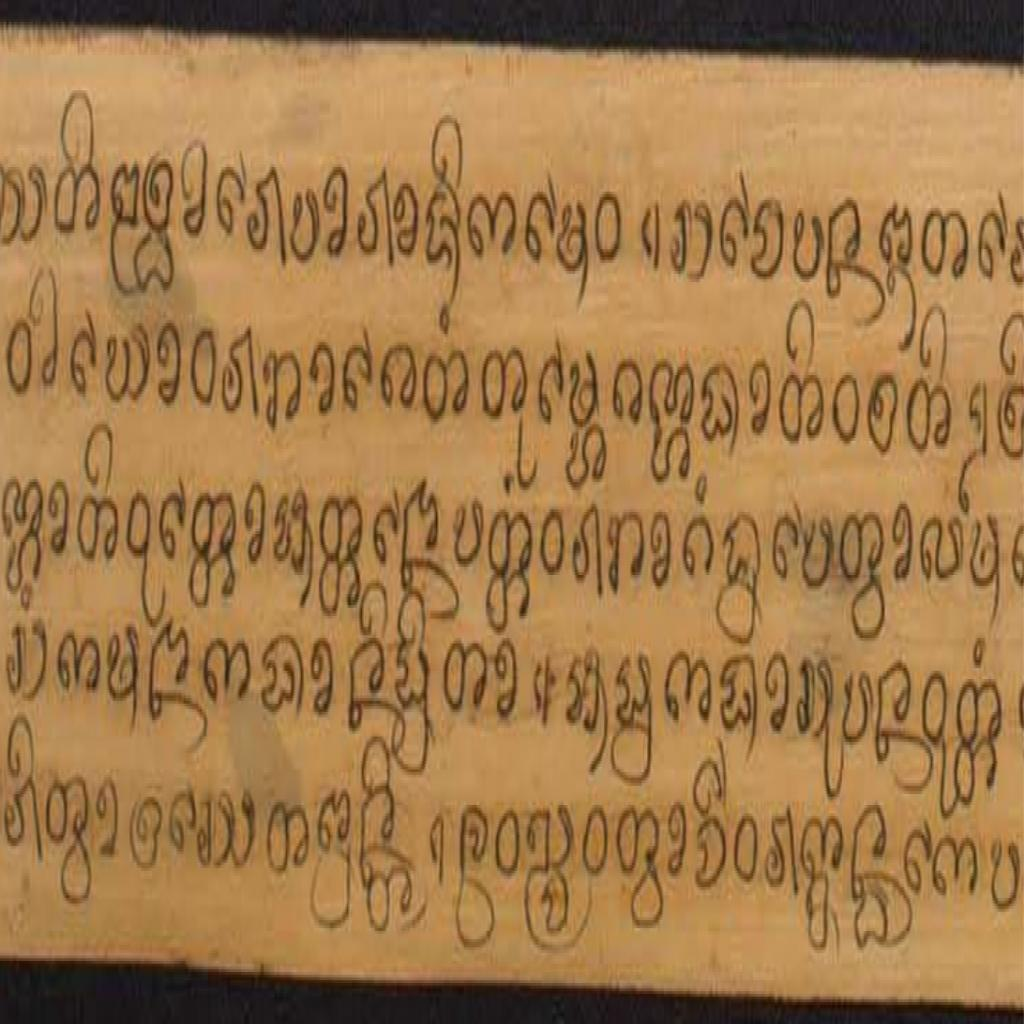LN001: (466, 185, 520, 267)
